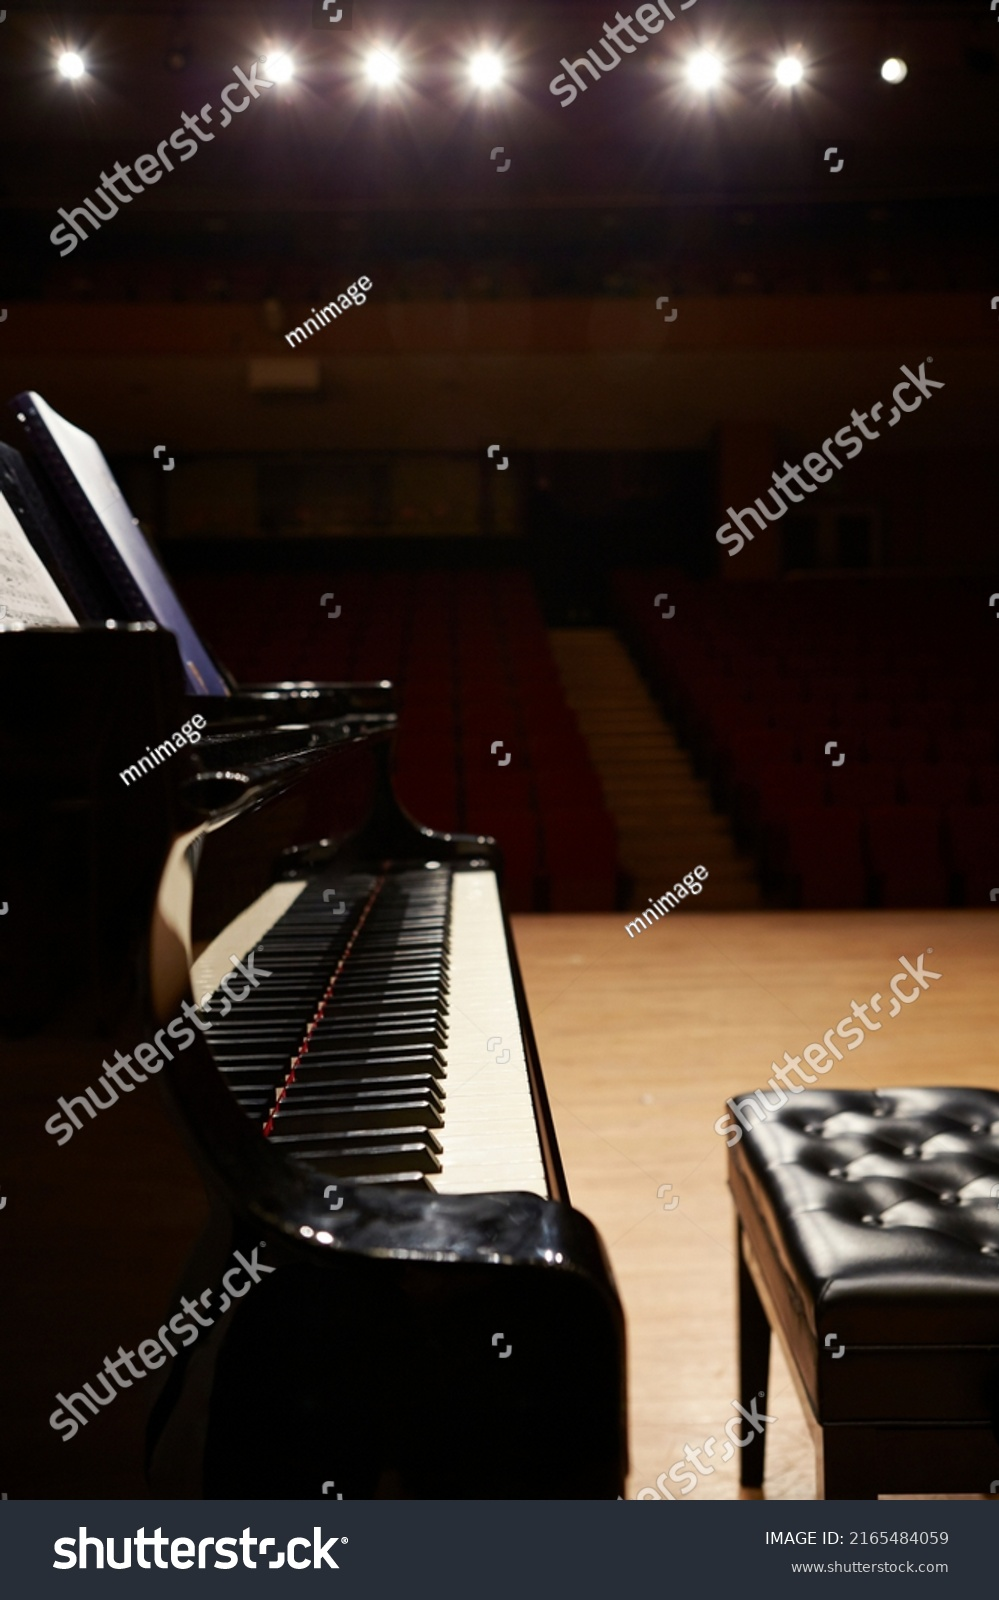Piano: (1, 412, 799, 1498)
